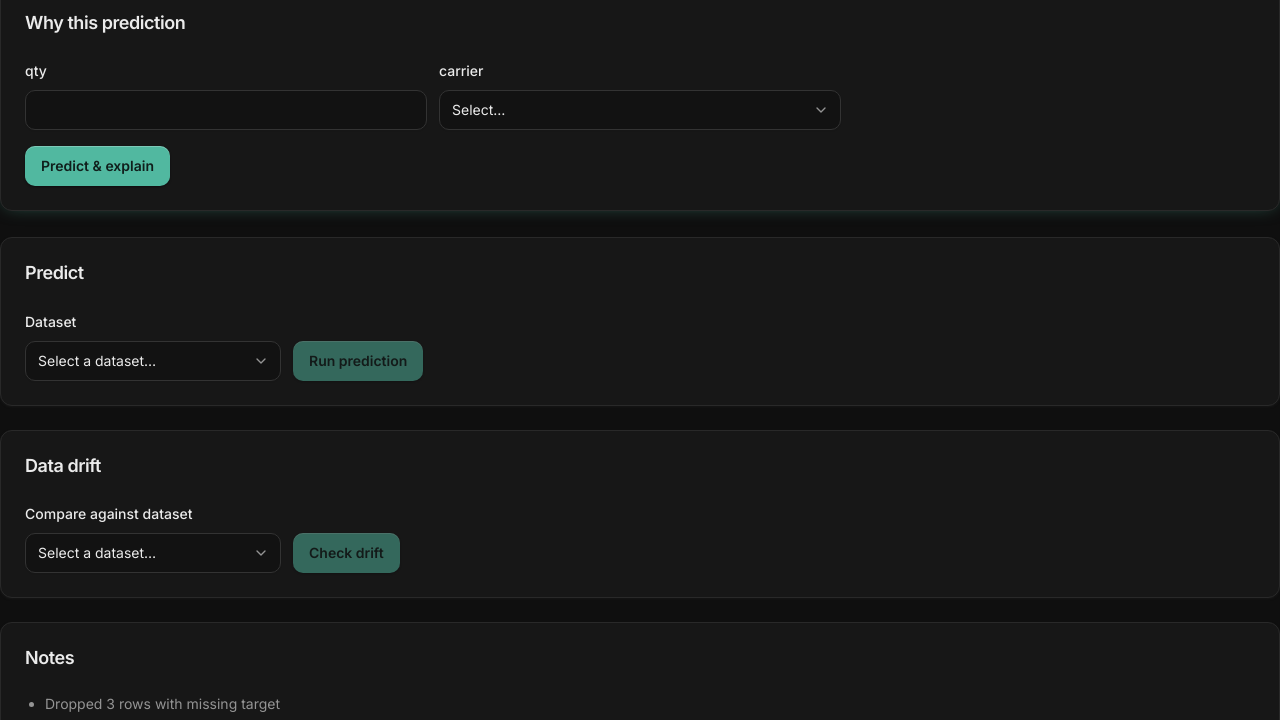
Scenario: RunResultsPanel › runs a prediction and a drift check against a chosen dataset
The width and height of the screenshot is (1280, 720).
(page scrolled)
Expected: the button "Run prediction" is disabled, [293, 340, 423, 380]
Select "October shipments" in the 2nd dropdown. click: (153, 360)
box: [25, 340, 281, 380]
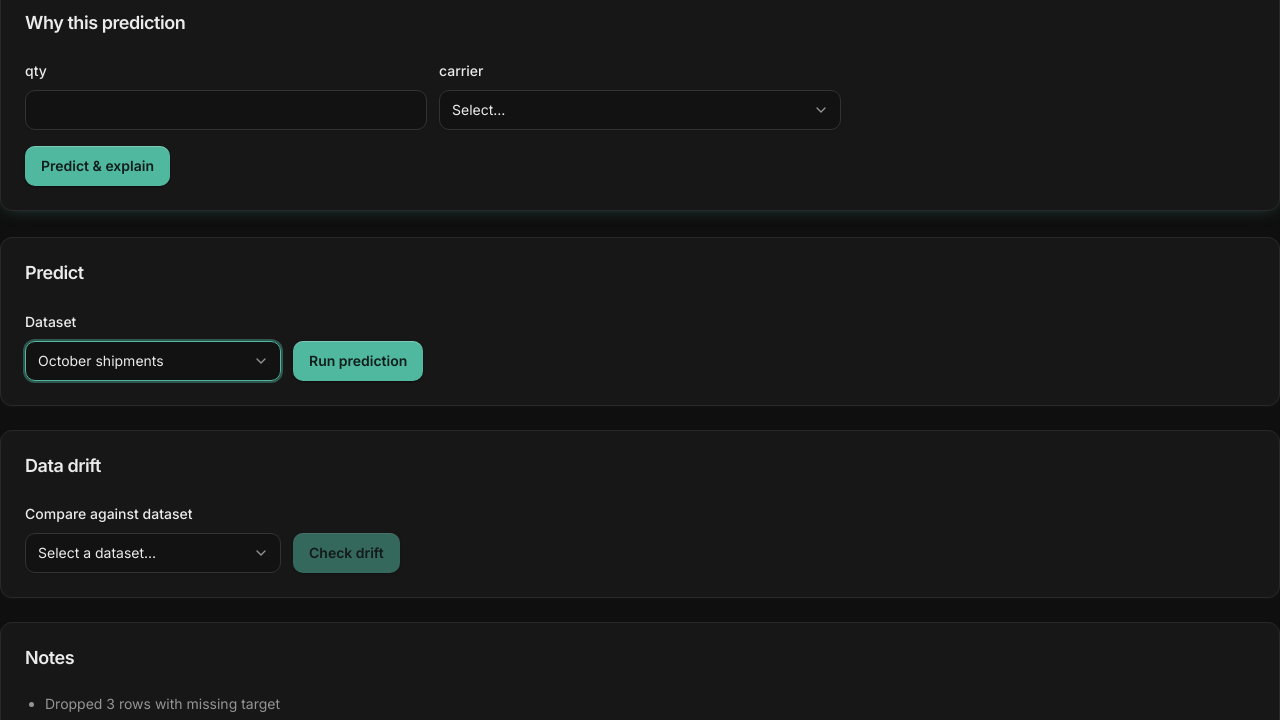
Click the button "Run prediction". click: (358, 360)
box: [293, 340, 423, 380]
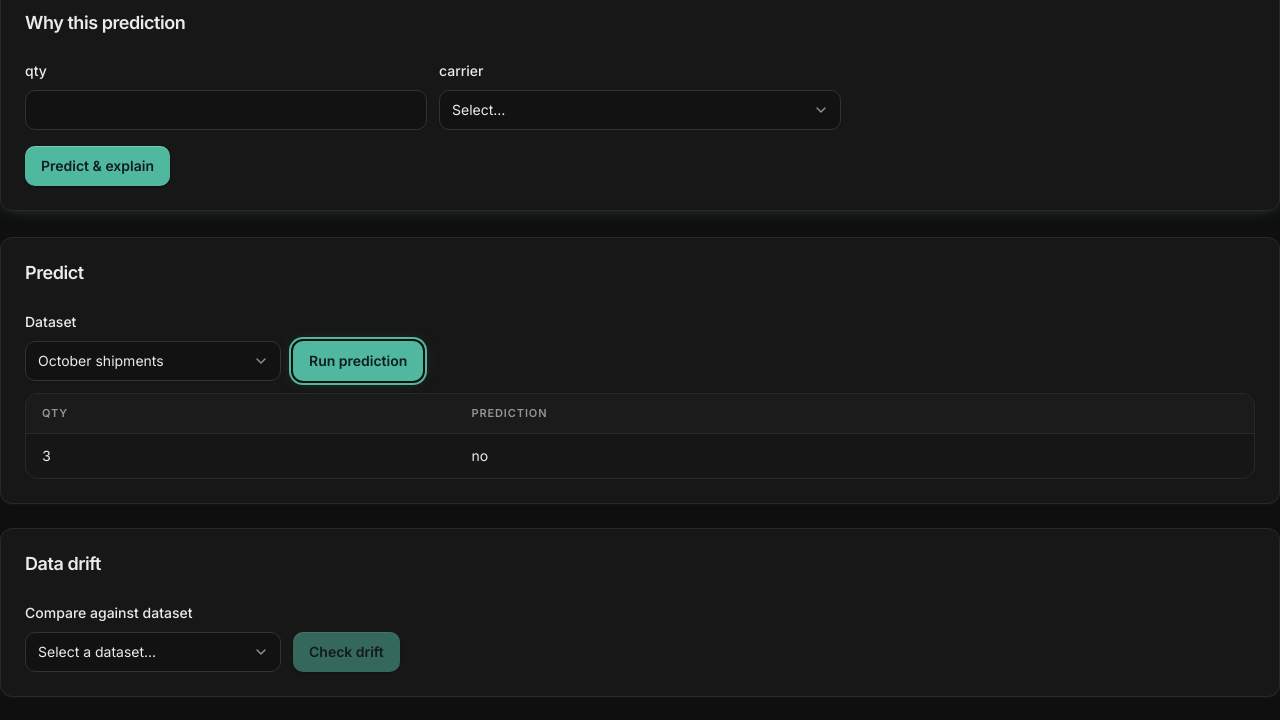
Expected: the column heading "prediction" is shown, [456, 394, 1254, 434]
Expected: the text "no" is shown, [456, 434, 1254, 478]
Select "October shipments" in the dropdown below "Compare against dataset". click: (153, 652)
box: [25, 632, 281, 672]
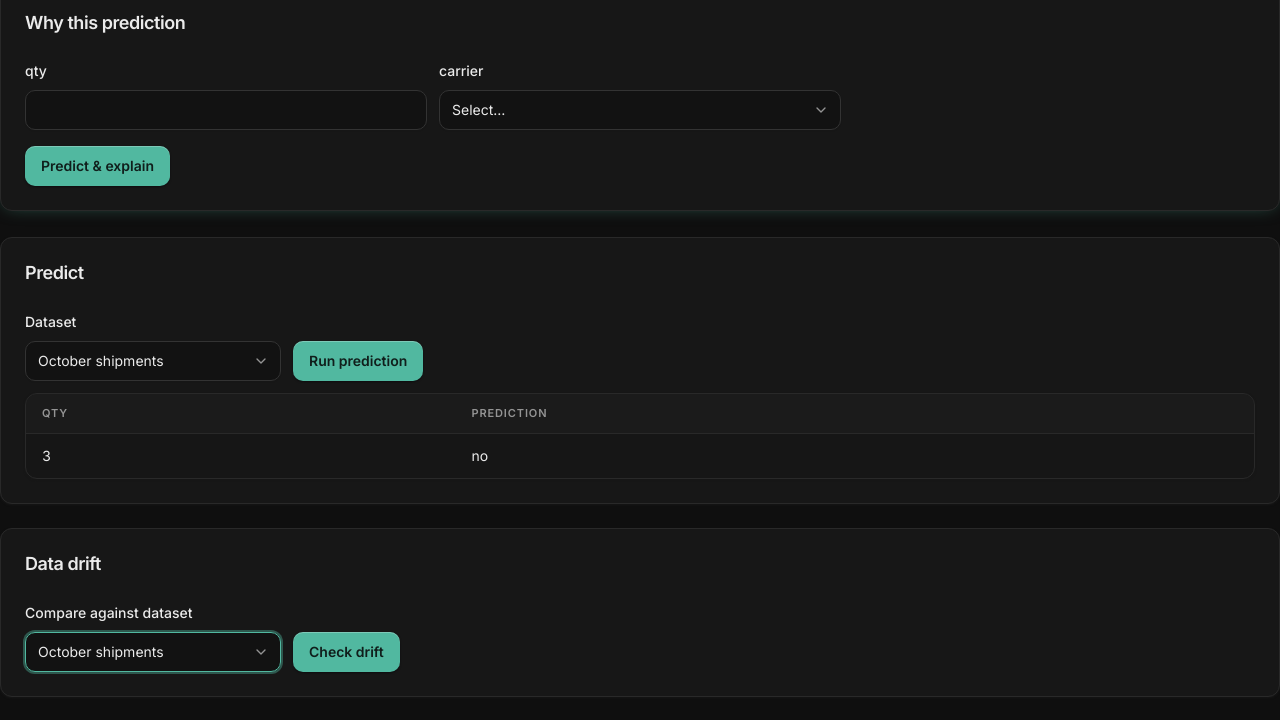
Click the button "Check drift". click: (346, 652)
box: [293, 632, 400, 672]
(page scrolled)
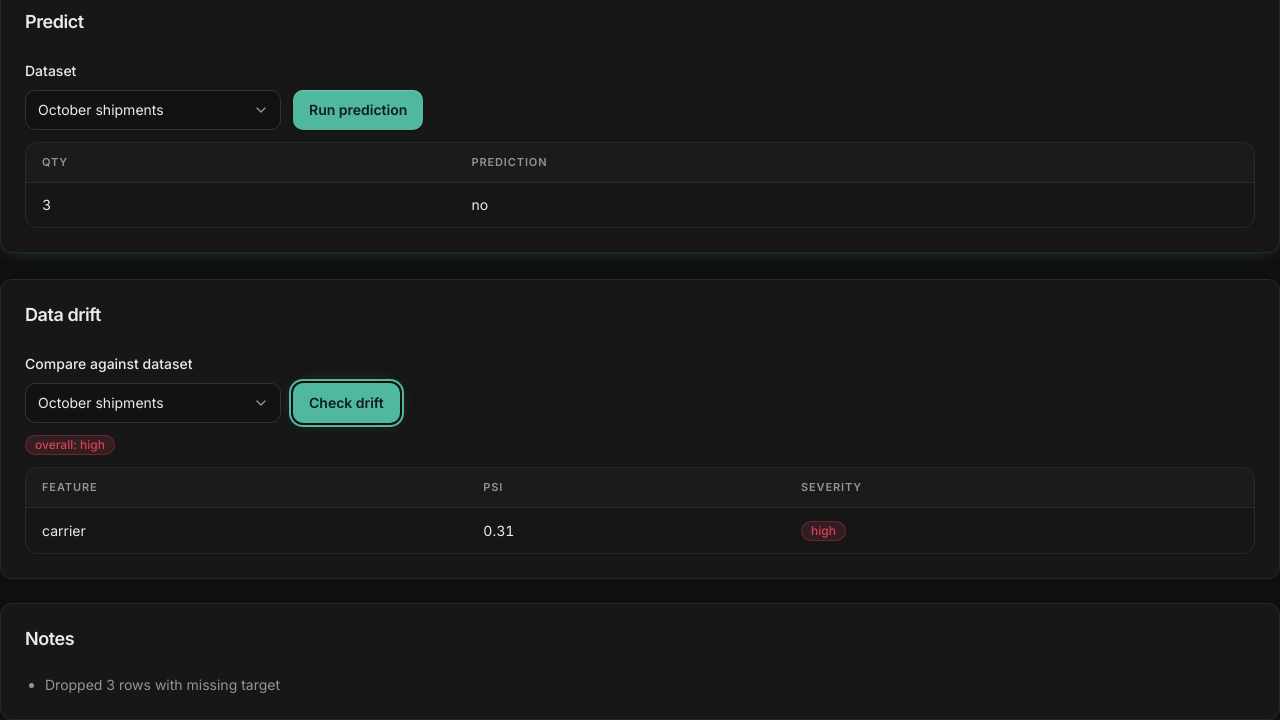
Expected: the text "overall: high" is shown, [25, 434, 115, 454]
Expected: the text "0.31" is shown, [467, 508, 785, 553]
